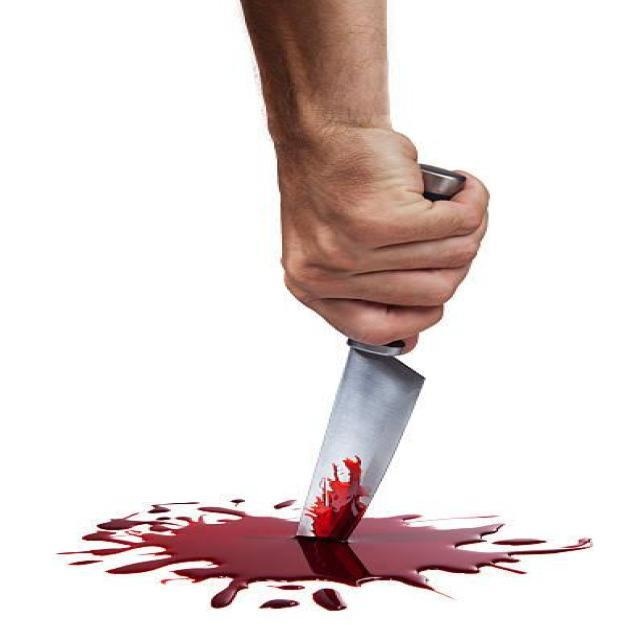faca: (187, 89, 521, 600)
